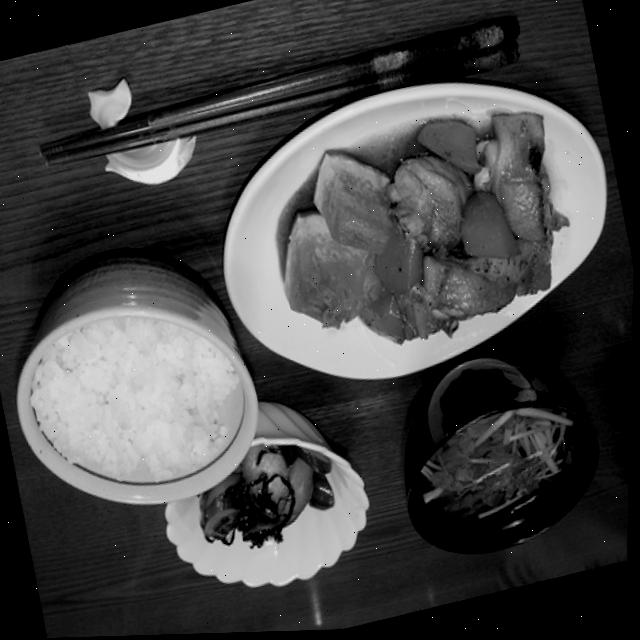米饭主食: (0, 219, 295, 552)
